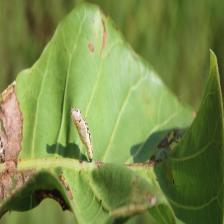leaf miner: (0, 2, 224, 224), (70, 106, 93, 162)
